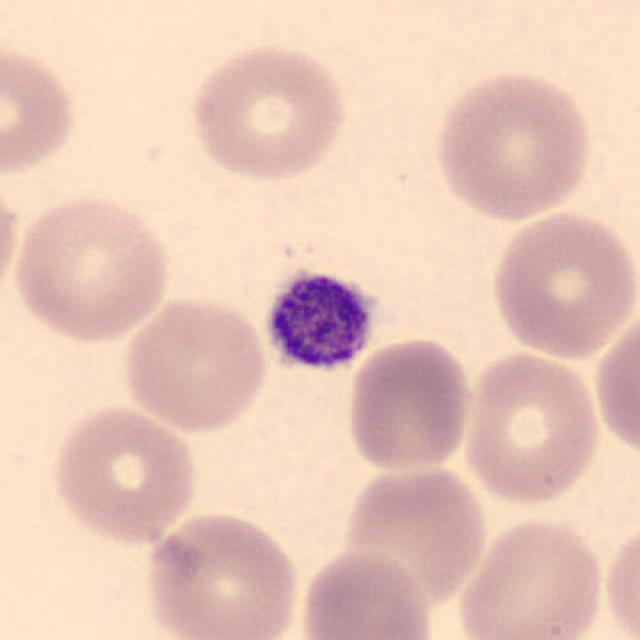Platelets: (258, 259, 384, 381)
RBC: (430, 67, 596, 224), (9, 190, 174, 346), (185, 39, 350, 185), (338, 455, 489, 612), (458, 347, 604, 508), (486, 206, 636, 362), (46, 401, 201, 548), (140, 506, 304, 640), (117, 292, 272, 433), (453, 515, 608, 640), (343, 333, 478, 474), (295, 545, 436, 640), (0, 37, 82, 182), (590, 303, 638, 464), (601, 518, 640, 640)
